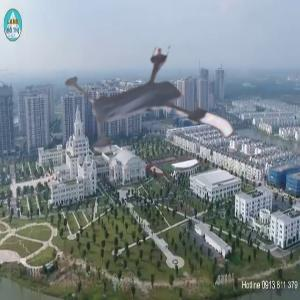drone: (67, 37, 219, 189)
